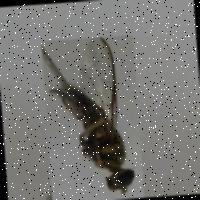Oriental-fruit-fly: (39, 34, 142, 200)
